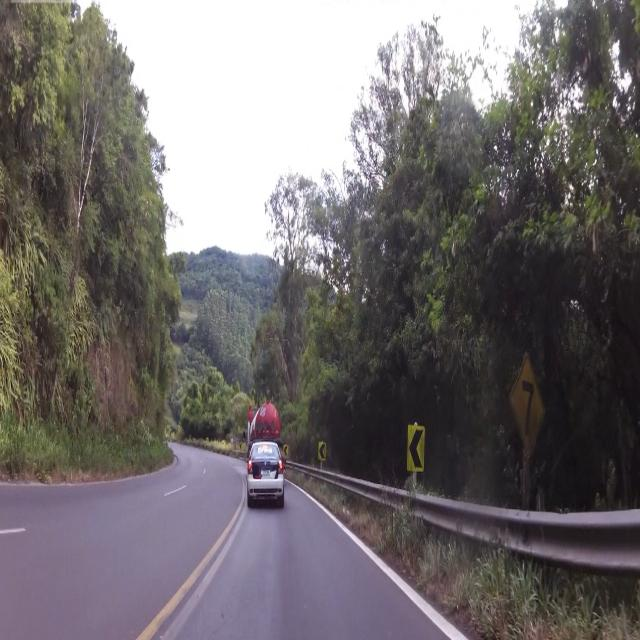Del: (409, 422, 426, 474)
